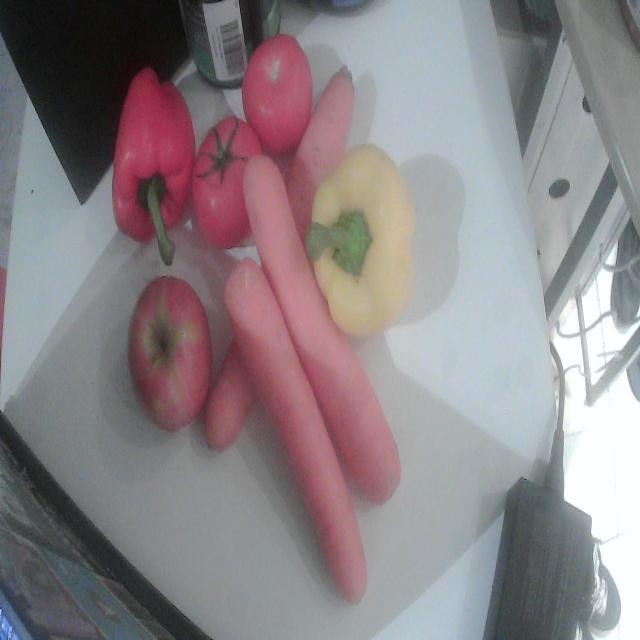Apple: (128, 276, 212, 431)
Bell Pepper: (306, 145, 414, 336), (112, 69, 194, 264)
Carrot: (226, 260, 366, 602)
Tomato: (193, 117, 260, 248), (242, 36, 312, 156)
